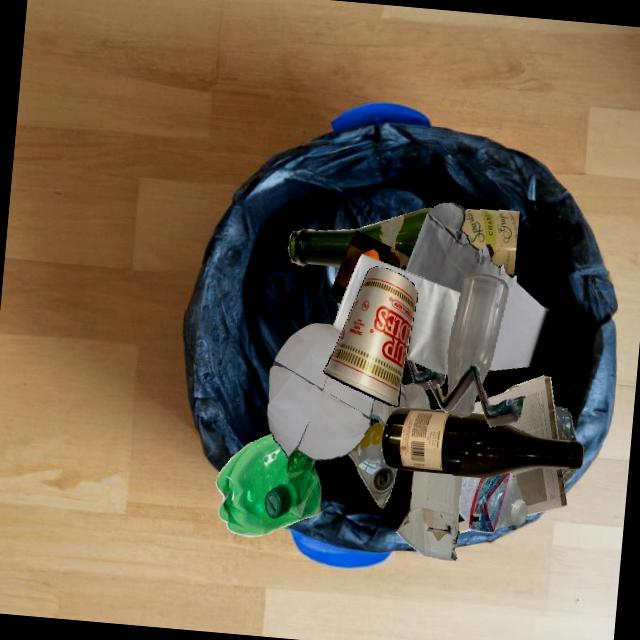biowaste: (363, 249, 379, 260)
cardboard: (428, 363, 525, 427), (395, 470, 462, 560), (329, 230, 410, 303), (406, 358, 445, 389)
glass: (381, 407, 583, 477), (288, 208, 432, 267), (446, 273, 508, 394), (347, 413, 397, 508), (462, 209, 520, 277), (371, 382, 430, 423)
paper: (405, 202, 549, 371), (333, 253, 460, 375), (266, 323, 374, 460), (475, 413, 558, 484), (487, 375, 558, 439), (515, 467, 566, 515)
plastic: (215, 433, 321, 536), (459, 472, 527, 533), (554, 405, 576, 441)
trash: (323, 266, 418, 406)
